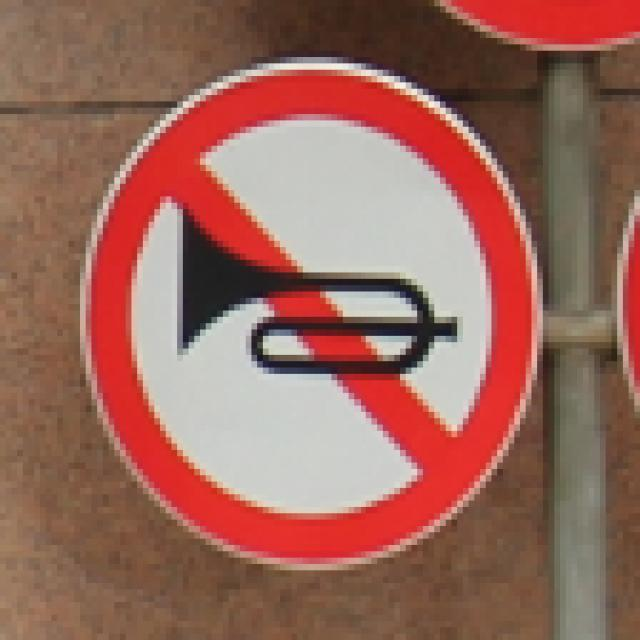No Horn: (79, 69, 546, 572)
